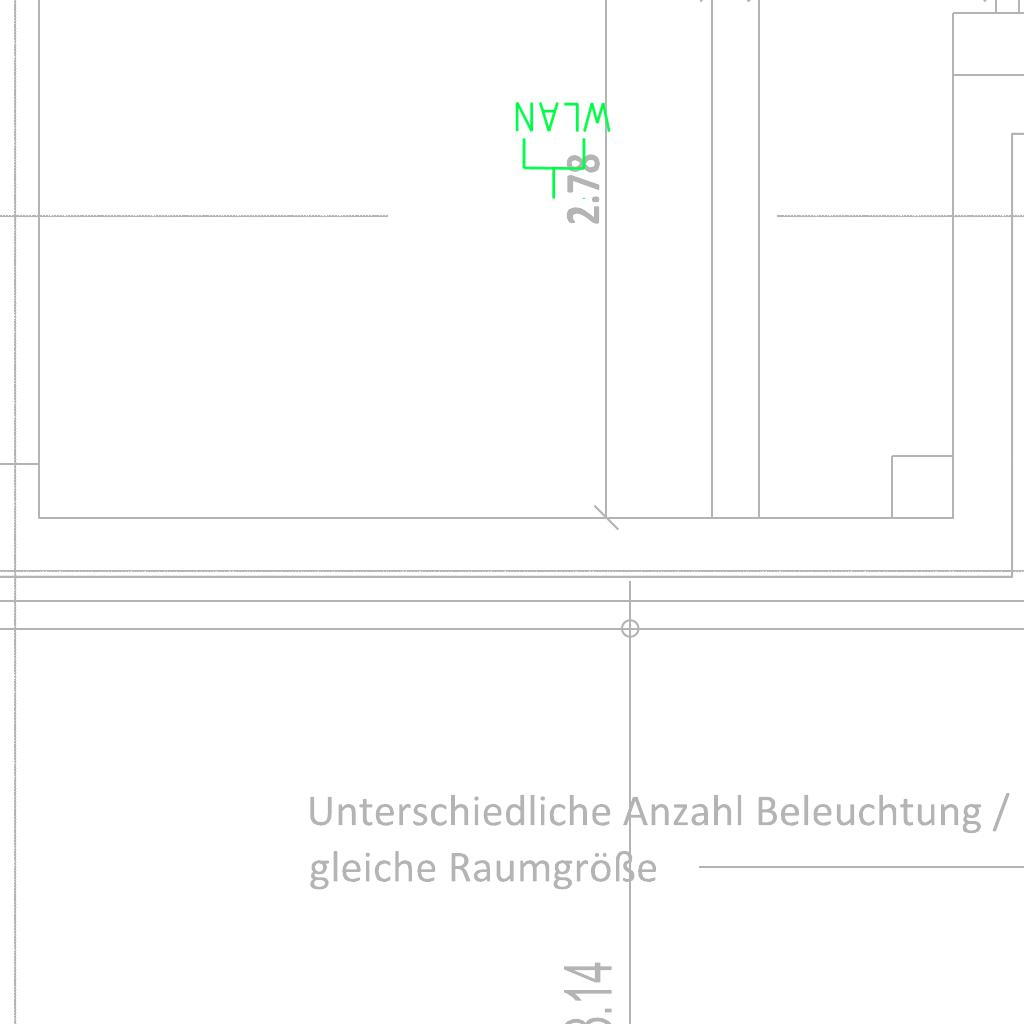WLAN: (511, 98, 616, 202)
